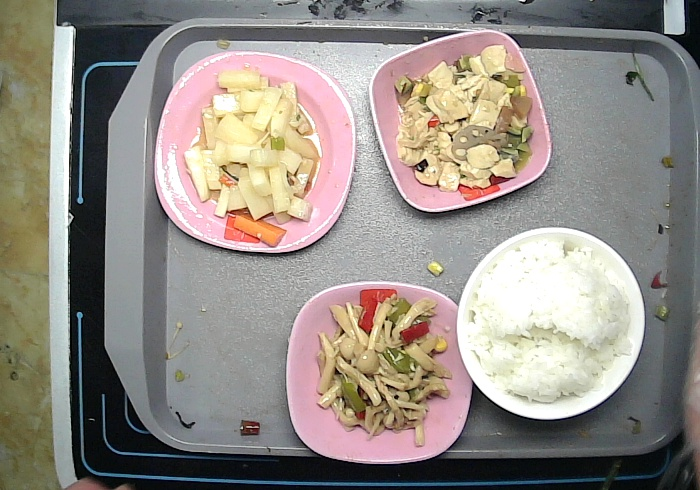SHKJ-Fan_Wan: (454, 225, 648, 422)
SHKJ-Fen_Se_Cai_Die: (283, 280, 473, 464)
SHKJ-Fen_Se_Si_Fang_Cai_Die: (151, 46, 356, 255)
SHKJ-Fen_Se_Xiao_Fang_Die: (368, 30, 557, 213)
